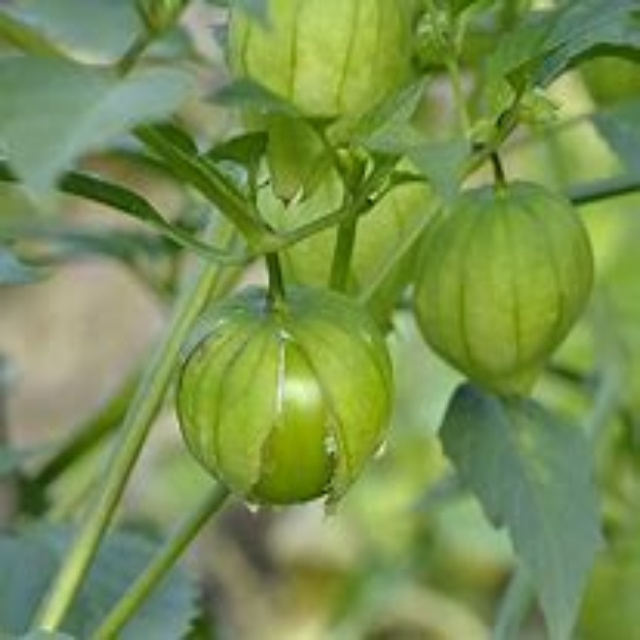tomato: (182, 283, 386, 508), (425, 182, 587, 389)
